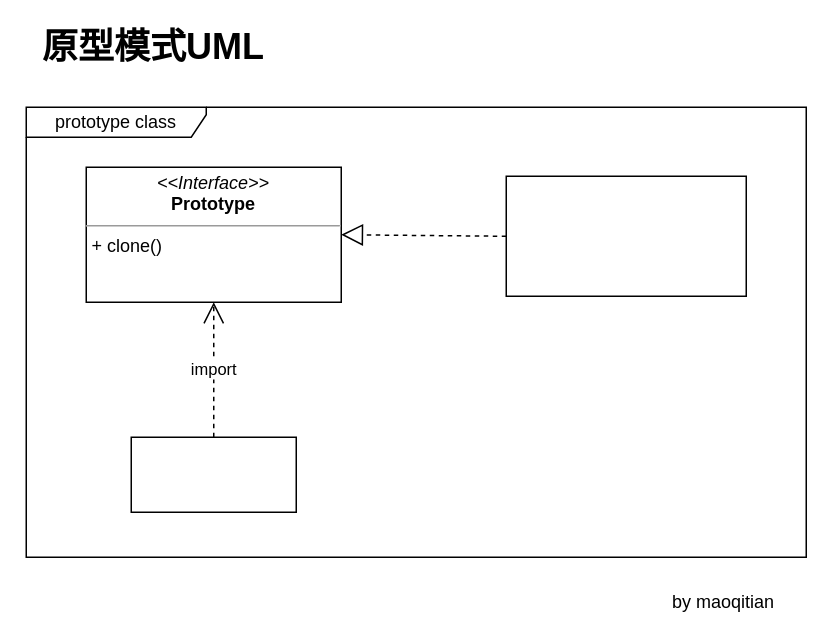
Some shapes in this 833 by 644 pixel diagram are drawn without their labels. The shapes that lost their labels are listed below. From the top down, each one's centre as x and y in pixels, then its label:
the point at 625,235: ConcreatePrototype + clone()
the point at 213,474: Client
